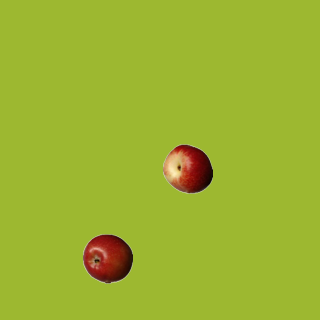Apple Braeburn: (82, 233, 132, 283)
Nectarine: (162, 143, 212, 193)
